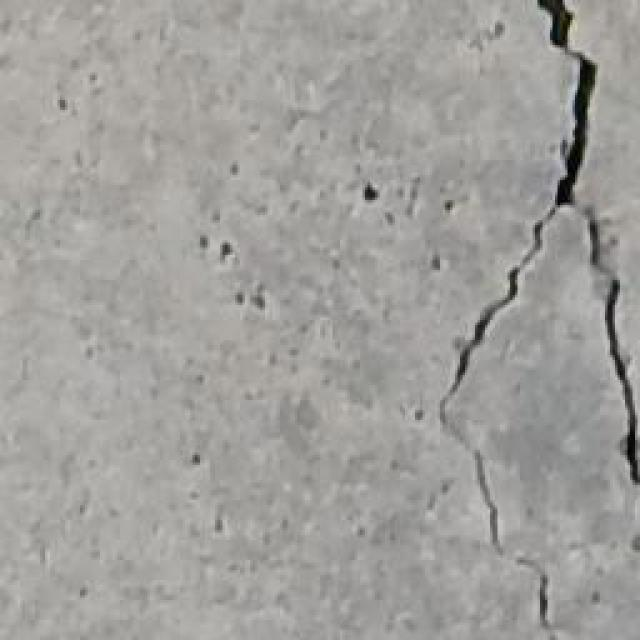concrete-crack: (438, 0, 640, 488), (472, 452, 548, 630)
